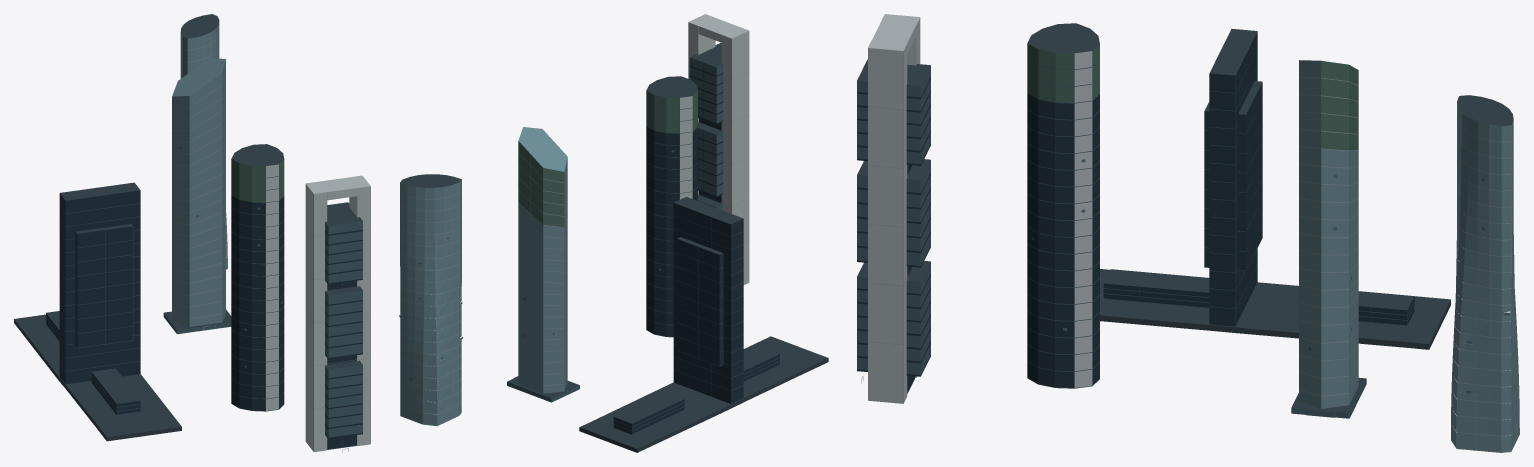
The model's file is cuatro-torres-far.glb.
The picture shows the model from 3 angles, left to right: view 1: azimuth 30°, elevation 25°; view 2: azimuth 150°, elevation 25°; view 3: azimuth 270°, elevation 25°; orthographic projection. The views are drawn at different scales.
Visible parts, largest first — view 1: cuatro-torres-0-glassDark, cuatro-torres-0-glassBright, cuatro-torres-0-metal, cuatro-torres-0-glass, cuatro-torres-0-roof, cuatro-torres-0-seam, cuatro-torres-0-crown; view 2: cuatro-torres-0-glassBright, cuatro-torres-0-glassDark, cuatro-torres-0-roof, cuatro-torres-0-metal, cuatro-torres-0-glass, cuatro-torres-0-crown, cuatro-torres-0-seam; view 3: cuatro-torres-0-glassBright, cuatro-torres-0-glassDark, cuatro-torres-0-metal, cuatro-torres-0-roof, cuatro-torres-0-glass, cuatro-torres-0-crown, cuatro-torres-0-seam.
Part boxes in pixels (x1=…): cuatro-torres-0-glassDark: x1=46, y1=190, x2=362, y2=449; cuatro-torres-0-glassBright: x1=172, y1=23, x2=227, y2=326; cuatro-torres-0-metal: x1=203, y1=164, x2=370, y2=452; cuatro-torres-0-glass: x1=46, y1=166, x2=362, y2=449; cuatro-torres-0-roof: x1=14, y1=14, x2=362, y2=441; cuatro-torres-0-seam: x1=167, y1=32, x2=370, y2=451; cuatro-torres-0-crown: x1=231, y1=158, x2=284, y2=202; cuatro-torres-0-glassBright: x1=399, y1=127, x2=567, y2=425; cuatro-torres-0-glassDark: x1=613, y1=62, x2=779, y2=434; cuatro-torres-0-roof: x1=400, y1=43, x2=828, y2=452; cuatro-torres-0-metal: x1=680, y1=14, x2=748, y2=284; cuatro-torres-0-glass: x1=507, y1=57, x2=780, y2=434; cuatro-torres-0-crown: x1=518, y1=90, x2=697, y2=227; cuatro-torres-0-seam: x1=400, y1=31, x2=749, y2=426; cuatro-torres-0-glassBright: x1=1299, y1=60, x2=1519, y2=452; cuatro-torres-0-glassDark: x1=857, y1=31, x2=1414, y2=392; cuatro-torres-0-metal: x1=861, y1=14, x2=1092, y2=403; cuatro-torres-0-roof: x1=857, y1=23, x2=1513, y2=412; cuatro-torres-0-glass: x1=857, y1=49, x2=1414, y2=418; cuatro-torres-0-crown: x1=1027, y1=43, x2=1358, y2=150; cuatro-torres-0-seam: x1=868, y1=51, x2=1519, y2=452.
Bounding box in the file's own units: 276 × 249 × 423.
